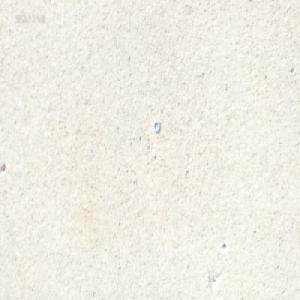Washer: (153, 118, 160, 132)
